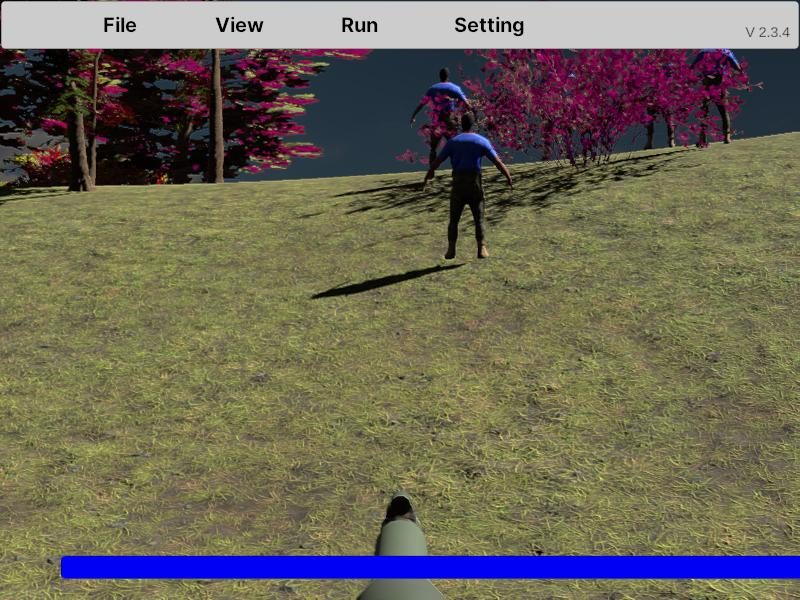Human: (423, 111, 514, 261), (409, 66, 478, 186)
